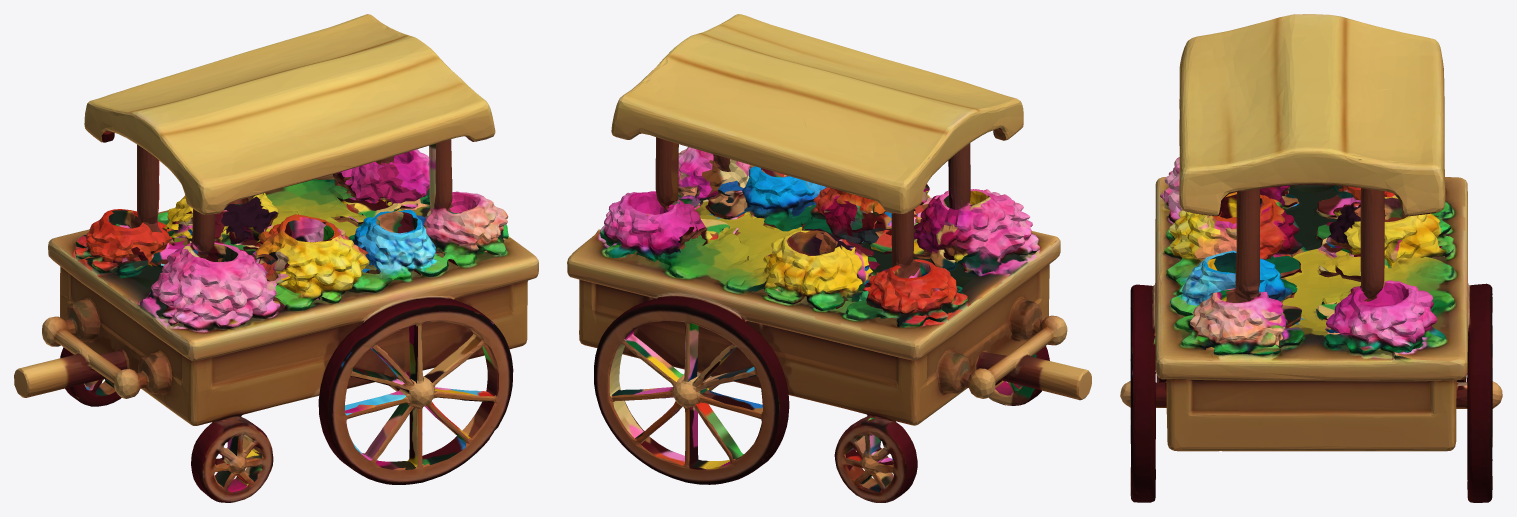
Rendered from flower_cart_merchant.glb.
The picture shows the model from 3 angles, left to right: view 1: azimuth 30°, elevation 25°; view 2: azimuth 150°, elevation 25°; view 3: azimuth 270°, elevation 25°; orthographic projection. The views are drawn at different scales.
Parts seen in each view (by area): view 1: tmps47fo34n.ply; view 2: tmps47fo34n.ply; view 3: tmps47fo34n.ply.
Boxes of the visible parts, left/top/right/bottom form: tmps47fo34n.ply: left=14, top=14, right=538, bottom=502; tmps47fo34n.ply: left=567, top=14, right=1091, bottom=502; tmps47fo34n.ply: left=1120, top=14, right=1502, bottom=502.
Bounding box in the file's own units: 1.99 × 1.52 × 1.37.
1 material, 1 textured.
